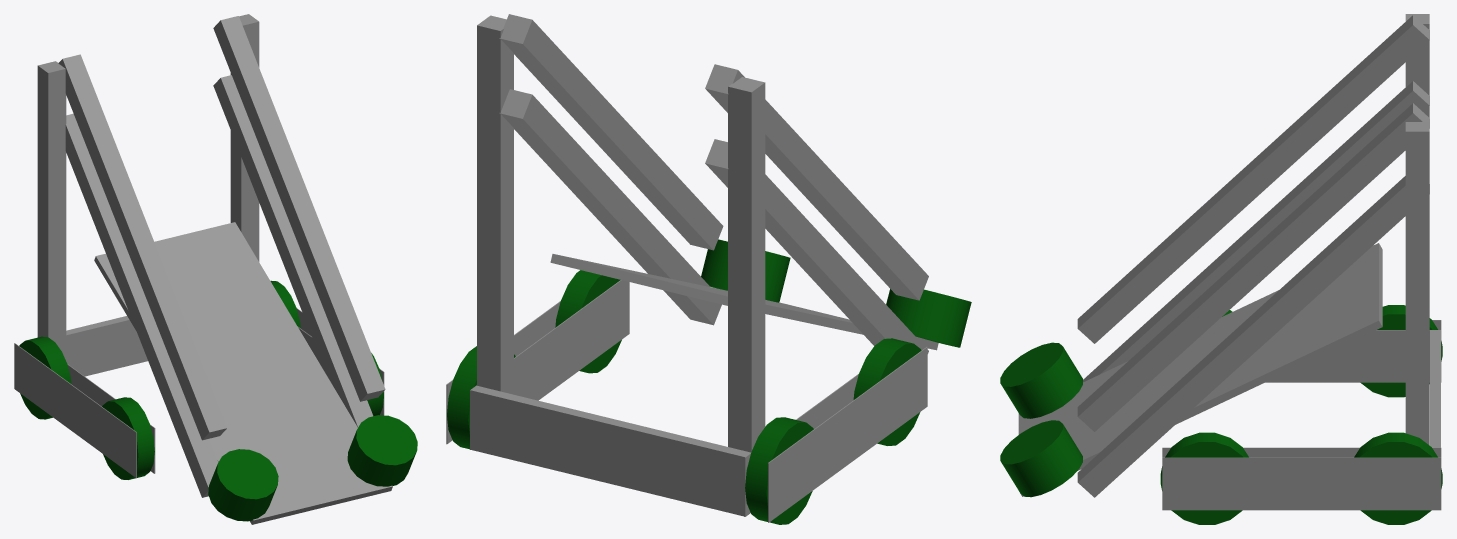
The model's file is nzbot.FBX.
3 views of the same model, side by side, from view 1: azimuth 30°, elevation 25°; view 2: azimuth 150°, elevation 25°; view 3: azimuth 270°, elevation 25° (orthographic). The views are drawn at different scales.
Visible parts, largest first — view 1: Box012, Box009, Box011, Box008, Box007, Box010, Box004, Cylinder005, Cylinder006, Box002, Box006, Cylinder003 (+2 smaller); view 2: Box002, Box007, Box006, Box009, Box010, Box004, Box011, Box008, Box005, Box012, Cylinder004, Cylinder005 (+6 smaller); view 3: Box012, Box003, Box011, Box009, Box010, Box006, Box008, Box001, Cylinder006, Cylinder005, Cylinder001, Cylinder002 (+4 smaller).
Part boxes in pixels (x1=…): Box012: x1=94, y1=222, x2=392, y2=524; Box009: x1=213, y1=16, x2=385, y2=401; Box011: x1=58, y1=54, x2=227, y2=440; Box008: x1=65, y1=113, x2=218, y2=497; Box007: x1=37, y1=61, x2=66, y2=360; Box010: x1=213, y1=75, x2=373, y2=427; Box004: x1=14, y1=343, x2=136, y2=478; Cylinder005: x1=208, y1=449, x2=278, y2=521; Cylinder006: x1=347, y1=415, x2=417, y2=486; Box002: x1=66, y1=316, x2=147, y2=376; Box006: x1=230, y1=14, x2=259, y2=261; Cylinder003: x1=102, y1=397, x2=154, y2=479; Box002: x1=471, y1=386, x2=750, y2=516; Box007: x1=728, y1=77, x2=765, y2=452; Box006: x1=477, y1=15, x2=513, y2=394; Box009: x1=499, y1=14, x2=723, y2=250; Box010: x1=499, y1=89, x2=721, y2=325; Box004: x1=768, y1=347, x2=927, y2=522; Box011: x1=705, y1=64, x2=928, y2=300; Box008: x1=705, y1=139, x2=928, y2=353; Box005: x1=470, y1=280, x2=629, y2=449; Box012: x1=550, y1=254, x2=938, y2=350; Cylinder004: x1=745, y1=417, x2=813, y2=524; Cylinder005: x1=886, y1=289, x2=971, y2=347; Box012: x1=1018, y1=243, x2=1382, y2=496; Box003: x1=1162, y1=457, x2=1441, y2=510; Box011: x1=1077, y1=15, x2=1429, y2=343; Box009: x1=1077, y1=103, x2=1429, y2=431; Box010: x1=1077, y1=176, x2=1429, y2=497; Box006: x1=1405, y1=121, x2=1429, y2=445; Box008: x1=1083, y1=81, x2=1429, y2=382; Box001: x1=1265, y1=330, x2=1441, y2=382; Cylinder006: x1=1000, y1=420, x2=1082, y2=497; Cylinder005: x1=1000, y1=342, x2=1082, y2=418; Cylinder001: x1=1160, y1=432, x2=1248, y2=524; Cylinder002: x1=1354, y1=432, x2=1442, y2=524.
Bounding box in the file's own units: 0.3571 × 0.4752 × 0.4831.
